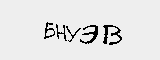Б: (41, 18, 56, 41)
В: (103, 24, 124, 47)
Н: (54, 24, 68, 42)
У: (65, 22, 81, 45)
Э: (78, 24, 99, 45)
